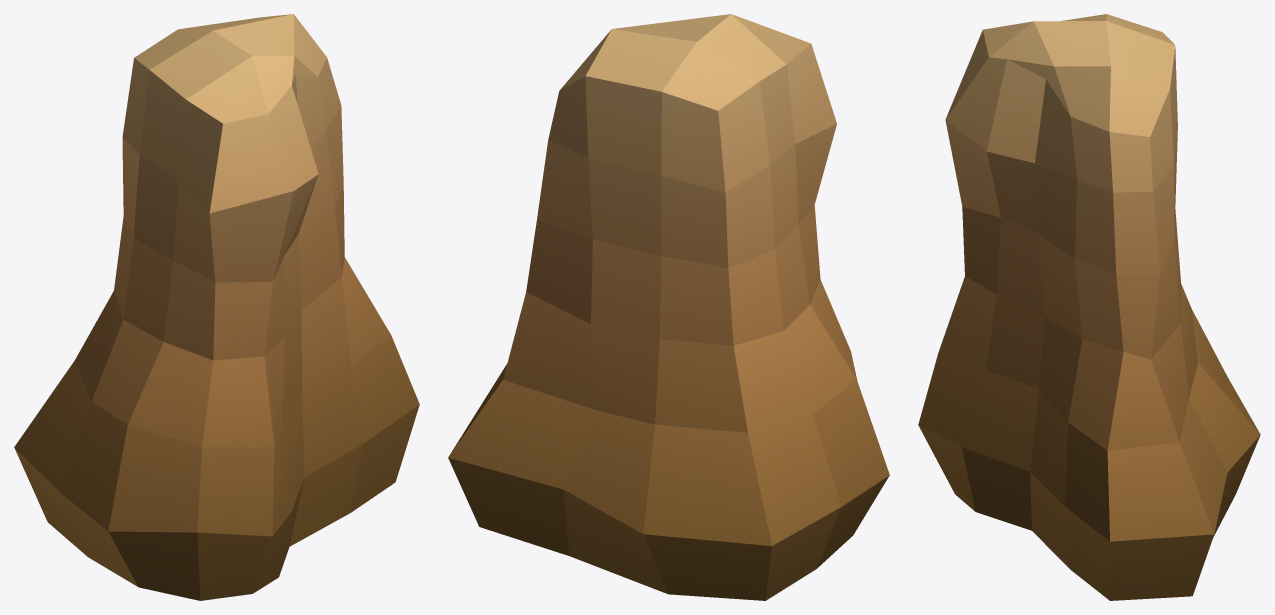
File: rock5.fbx
3 renders of one model, left to right at view 1: azimuth 30°, elevation 25°; view 2: azimuth 150°, elevation 25°; view 3: azimuth 270°, elevation 25°, orthographic.
Parts seen in each view (by area): view 1: Cube.002; view 2: Cube.002; view 3: Cube.002.
Boxes of the visible parts, x1=… form: Cube.002: x1=14, y1=14, x2=419, y2=600; Cube.002: x1=448, y1=14, x2=889, y2=600; Cube.002: x1=918, y1=14, x2=1260, y2=600.
Bounding box in the file's own units: 322 × 429 × 271.
